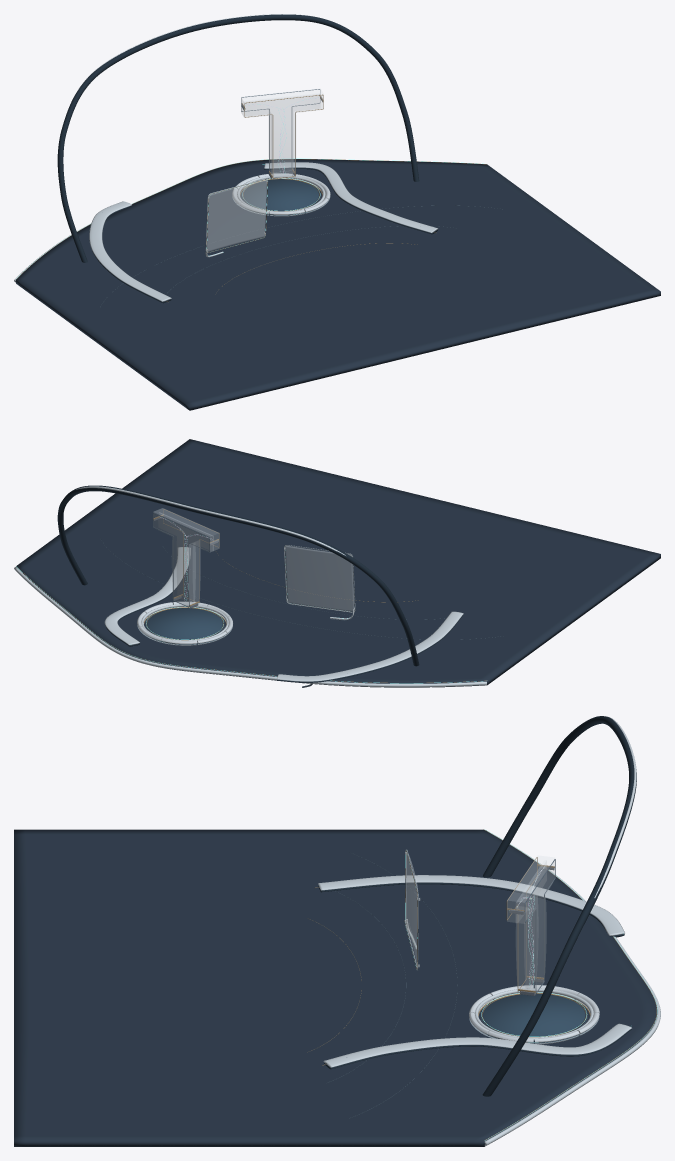
File: tem-refined-observatory-v21.glb
The picture shows the model from 3 angles, top to bottom: view 1: azimuth 30°, elevation 25°; view 2: azimuth 150°, elevation 25°; view 3: azimuth 270°, elevation 25°; orthographic projection. The views are drawn at different scales.
Visible parts, largest first — view 1: CABIN_V19_FLOOR_V19 — V21 polished optical basalt, CABIN_V19_V21_DARK_PRESSURE — shadow ceramic, CABIN_V19_V21_PEARL_CERAMIC — translucent enamel, T_IDENTITY_V19_GLASS_V19 — V21 thick optical crystal, SURFACE_FRAME_V19_GLASS_V19 — V21 pressure display front, SURFACE_FRAME_V19_GLASS_V19 — V21 internal display lamina, T_IDENTITY_V19_GLASS_V19 — V21 internal dichroic lamina, CABIN_V19_GLASS_V19 — V21 platform optical lens, CABIN_V19_V21_PLINTH_PEARL — satin electroceramic, CABIN_V19_V21_CHAMPAGNE — fine contact plating; view 2: CABIN_V19_FLOOR_V19 — V21 polished optical basalt, CABIN_V19_V21_PEARL_CERAMIC — translucent enamel, SURFACE_FRAME_V19_GLASS_V19 — V21 pressure display front, SURFACE_FRAME_V19_GLASS_V19 — V21 internal display lamina, CABIN_V19_V21_DARK_PRESSURE — shadow ceramic, T_IDENTITY_V19_GLASS_V19 — V21 thick optical crystal, CABIN_V19_GLASS_V19 — V21 platform optical lens, T_IDENTITY_V19_GLASS_V19 — V21 internal dichroic lamina, CABIN_V19_V21_PLINTH_PEARL — satin electroceramic, CABIN_V19_V21_CHAMPAGNE — fine contact plating; view 3: CABIN_V19_FLOOR_V19 — V21 polished optical basalt, CABIN_V19_V21_PEARL_CERAMIC — translucent enamel, CABIN_V19_V21_DARK_PRESSURE — shadow ceramic, T_IDENTITY_V19_GLASS_V19 — V21 thick optical crystal, CABIN_V19_GLASS_V19 — V21 platform optical lens, CABIN_V19_V21_PLINTH_PEARL — satin electroceramic, T_IDENTITY_V19_GLASS_V19 — V21 internal dichroic lamina, SURFACE_FRAME_V19_GLASS_V19 — V21 pressure display front, CABIN_V19_V21_CHAMPAGNE — fine contact plating, SURFACE_FRAME_V19_GLASS_V19 — V21 internal display lamina.
Part boxes in pixels (x1=…): CABIN_V19_FLOOR_V19 — V21 polished optical basalt: x1=16, y1=159, x2=660, y2=410; CABIN_V19_V21_DARK_PRESSURE — shadow ceramic: x1=15, y1=14, x2=437, y2=303; CABIN_V19_V21_PEARL_CERAMIC — translucent enamel: x1=14, y1=14, x2=438, y2=301; T_IDENTITY_V19_GLASS_V19 — V21 thick optical crystal: x1=241, y1=88, x2=323, y2=179; SURFACE_FRAME_V19_GLASS_V19 — V21 pressure display front: x1=207, y1=180, x2=267, y2=252; SURFACE_FRAME_V19_GLASS_V19 — V21 internal display lamina: x1=207, y1=180, x2=266, y2=251; T_IDENTITY_V19_GLASS_V19 — V21 internal dichroic lamina: x1=245, y1=93, x2=319, y2=174; CABIN_V19_GLASS_V19 — V21 platform optical lens: x1=235, y1=179, x2=329, y2=215; CABIN_V19_V21_PLINTH_PEARL — satin electroceramic: x1=232, y1=173, x2=330, y2=216; CABIN_V19_V21_CHAMPAGNE — fine contact plating: x1=17, y1=159, x2=486, y2=302; CABIN_V19_FLOOR_V19 — V21 polished optical basalt: x1=16, y1=439, x2=660, y2=687; CABIN_V19_V21_PEARL_CERAMIC — translucent enamel: x1=14, y1=486, x2=486, y2=687; SURFACE_FRAME_V19_GLASS_V19 — V21 pressure display front: x1=285, y1=546, x2=354, y2=611; SURFACE_FRAME_V19_GLASS_V19 — V21 internal display lamina: x1=285, y1=546, x2=353, y2=610; CABIN_V19_V21_DARK_PRESSURE — shadow ceramic: x1=57, y1=485, x2=487, y2=683; T_IDENTITY_V19_GLASS_V19 — V21 thick optical crystal: x1=153, y1=508, x2=219, y2=607; CABIN_V19_GLASS_V19 — V21 platform optical lens: x1=137, y1=608, x2=232, y2=644; T_IDENTITY_V19_GLASS_V19 — V21 internal dichroic lamina: x1=159, y1=513, x2=213, y2=603; CABIN_V19_V21_PLINTH_PEARL — satin electroceramic: x1=137, y1=601, x2=232, y2=645; CABIN_V19_V21_CHAMPAGNE — fine contact plating: x1=16, y1=553, x2=486, y2=682; CABIN_V19_FLOOR_V19 — V21 polished optical basalt: x1=14, y1=829, x2=657, y2=1146; CABIN_V19_V21_PEARL_CERAMIC — translucent enamel: x1=318, y1=717, x2=660, y2=1145; CABIN_V19_V21_DARK_PRESSURE — shadow ceramic: x1=318, y1=716, x2=636, y2=1144; T_IDENTITY_V19_GLASS_V19 — V21 thick optical crystal: x1=507, y1=855, x2=554, y2=994; CABIN_V19_GLASS_V19 — V21 platform optical lens: x1=469, y1=994, x2=598, y2=1043; CABIN_V19_V21_PLINTH_PEARL — satin electroceramic: x1=469, y1=985, x2=599, y2=1044; T_IDENTITY_V19_GLASS_V19 — V21 internal dichroic lamina: x1=516, y1=860, x2=546, y2=989; SURFACE_FRAME_V19_GLASS_V19 — V21 pressure display front: x1=405, y1=852, x2=417, y2=964; CABIN_V19_V21_CHAMPAGNE — fine contact plating: x1=307, y1=829, x2=656, y2=1140; SURFACE_FRAME_V19_GLASS_V19 — V21 internal display lamina: x1=407, y1=857, x2=416, y2=958.
Bounding box in the file's own units: 94.38 × 31.94 × 82.56.
